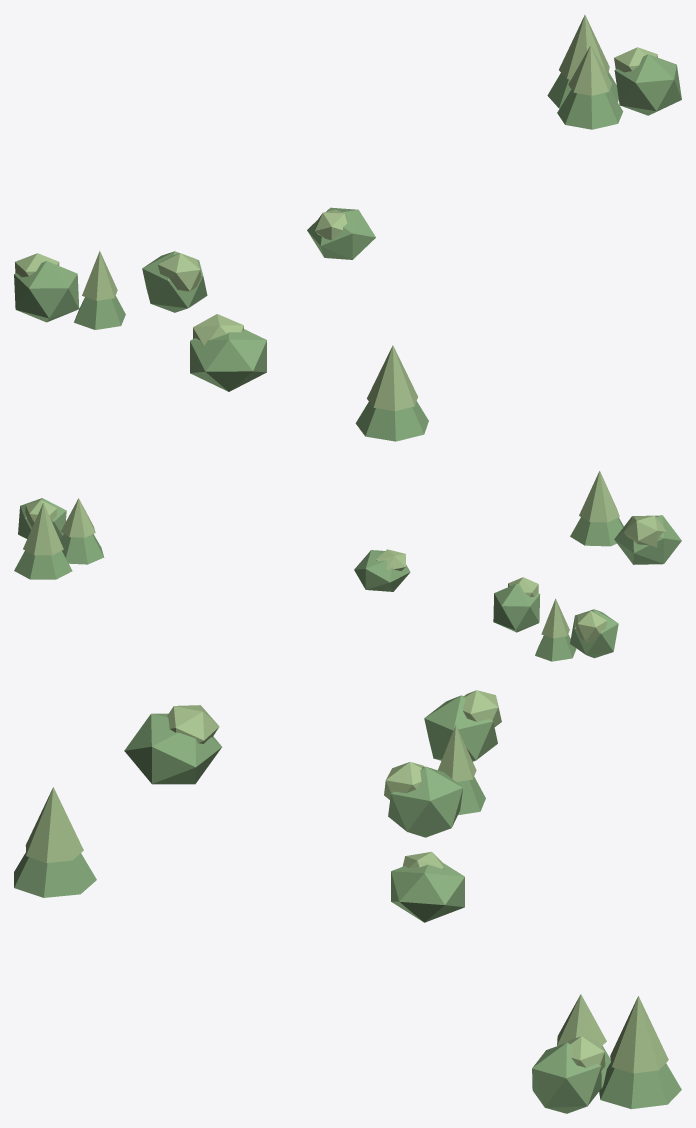
Rendered from high_ledge_gate_wind_canopies.fbx.
The picture shows the model from 3 angles, top to bottom: view 1: azimuth 30°, elevation 25°; view 2: azimuth 150°, elevation 25°; view 3: azimuth 270°, elevation 25°; orthographic projection. The views are drawn at different scales.
Visible parts, largest first — view 1: chunk_high_ledge_gate__tree_canopy_06, chunk_high_ledge_gate__tree_canopy_02, chunk_high_ledge_gate__tree_canopy_18, chunk_high_ledge_gate__tree_canopy_10, chunk_high_ledge_gate__tree_canopy_13, chunk_high_ledge_gate__tree_canopy_09, chunk_high_ledge_gate__tree_canopy_12, chunk_high_ledge_gate__tree_canopy_08, chunk_high_ledge_gate__tree_canopy_04, chunk_high_ledge_gate__tree_canopy_15, chunk_high_ledge_gate__tree_canopy_14, chunk_high_ledge_gate__tree_canopy_07 (+3 smaller); view 2: chunk_high_ledge_gate__tree_canopy_08, chunk_high_ledge_gate__tree_canopy_06, chunk_high_ledge_gate__tree_canopy_12, chunk_high_ledge_gate__tree_canopy_16, chunk_high_ledge_gate__tree_canopy_15, chunk_high_ledge_gate__tree_canopy_09, chunk_high_ledge_gate__tree_canopy_02, chunk_high_ledge_gate__tree_canopy_10, chunk_high_ledge_gate__tree_canopy_13, chunk_high_ledge_gate__tree_canopy_05, chunk_high_ledge_gate__tree_canopy_04, chunk_high_ledge_gate__tree_canopy_14 (+6 smaller); view 3: chunk_high_ledge_gate__tree_canopy_06, chunk_high_ledge_gate__tree_canopy_08, chunk_high_ledge_gate__tree_canopy_18, chunk_high_ledge_gate__tree_canopy_12, chunk_high_ledge_gate__tree_canopy_02, chunk_high_ledge_gate__tree_canopy_10, chunk_high_ledge_gate__tree_canopy_16, chunk_high_ledge_gate__tree_canopy_15, chunk_high_ledge_gate__tree_canopy_09, chunk_high_ledge_gate__tree_canopy_05, chunk_high_ledge_gate__tree_canopy_14, chunk_high_ledge_gate__tree_canopy_03 (+4 smaller).
Part boxes in pixels (x1,y1,x2,y2): chunk_high_ledge_gate__tree_canopy_06: (190,329,266,391); chunk_high_ledge_gate__tree_canopy_02: (14,261,79,322); chunk_high_ledge_gate__tree_canopy_18: (614,54,681,115); chunk_high_ledge_gate__tree_canopy_10: (355,401,428,441); chunk_high_ledge_gate__tree_canopy_13: (557,90,623,129); chunk_high_ledge_gate__tree_canopy_09: (367,345,417,411); chunk_high_ledge_gate__tree_canopy_12: (307,207,375,259); chunk_high_ledge_gate__tree_canopy_08: (142,251,207,312); chunk_high_ledge_gate__tree_canopy_04: (74,295,125,329); chunk_high_ledge_gate__tree_canopy_15: (559,15,609,79); chunk_high_ledge_gate__tree_canopy_14: (568,45,612,95); chunk_high_ledge_gate__tree_canopy_07: (158,253,201,291); chunk_high_ledge_gate__tree_canopy_08: (493,583,540,632); chunk_high_ledge_gate__tree_canopy_06: (614,515,681,564); chunk_high_ledge_gate__tree_canopy_12: (354,550,410,591); chunk_high_ledge_gate__tree_canopy_16: (14,550,72,579); chunk_high_ledge_gate__tree_canopy_15: (23,503,63,555); chunk_high_ledge_gate__tree_canopy_09: (579,471,619,522); chunk_high_ledge_gate__tree_canopy_02: (570,609,618,658); chunk_high_ledge_gate__tree_canopy_10: (570,517,623,546); chunk_high_ledge_gate__tree_canopy_13: (60,534,104,564); chunk_high_ledge_gate__tree_canopy_05: (624,515,666,547); chunk_high_ledge_gate__tree_canopy_04: (535,634,576,661); chunk_high_ledge_gate__tree_canopy_14: (61,498,95,537); chunk_high_ledge_gate__tree_canopy_06: (124,713,221,784); chunk_high_ledge_gate__tree_canopy_08: (388,766,462,837); chunk_high_ledge_gate__tree_canopy_18: (532,1042,601,1113); chunk_high_ledge_gate__tree_canopy_12: (391,861,464,922); chunk_high_ledge_gate__tree_canopy_02: (424,695,497,761); chunk_high_ledge_gate__tree_canopy_10: (14,852,96,897); chunk_high_ledge_gate__tree_canopy_16: (599,1062,681,1109); chunk_high_ledge_gate__tree_canopy_15: (610,996,668,1073); chunk_high_ledge_gate__tree_canopy_09: (25,787,83,862); chunk_high_ledge_gate__tree_canopy_05: (167,705,219,743); chunk_high_ledge_gate__tree_canopy_14: (557,994,606,1045); chunk_high_ledge_gate__tree_canopy_03: (438,725,476,781).
Size of the model in its own units: 215 by 34.23 by 153.
